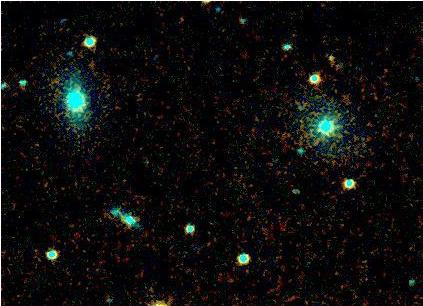star: (316, 41, 346, 71)
